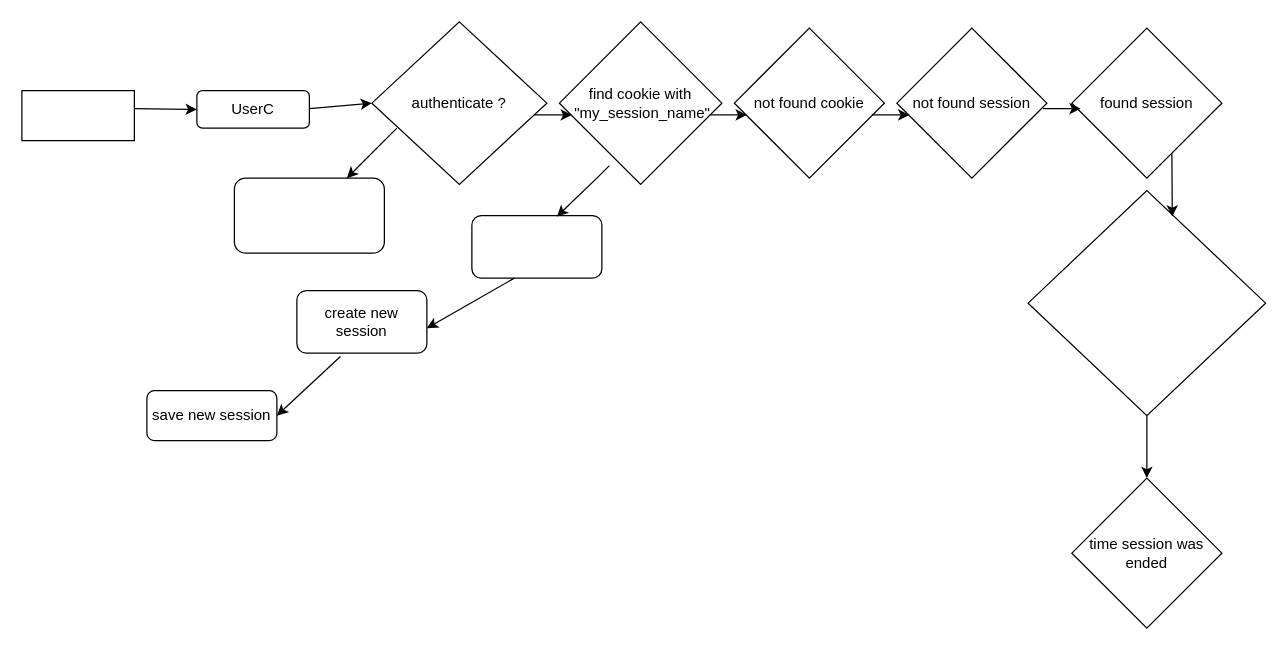
Some shapes in this 1288 by 650 pixel diagram are drawn without their labels. The centre of each missing label's shape, as x and y in pixels:
get userId from found session and equal it with input username: pixel 1146 302
getUserFromDB: pixel 536 246
req="/login": pixel 77 115
return error create new acc redirect register: pixel 308 215
